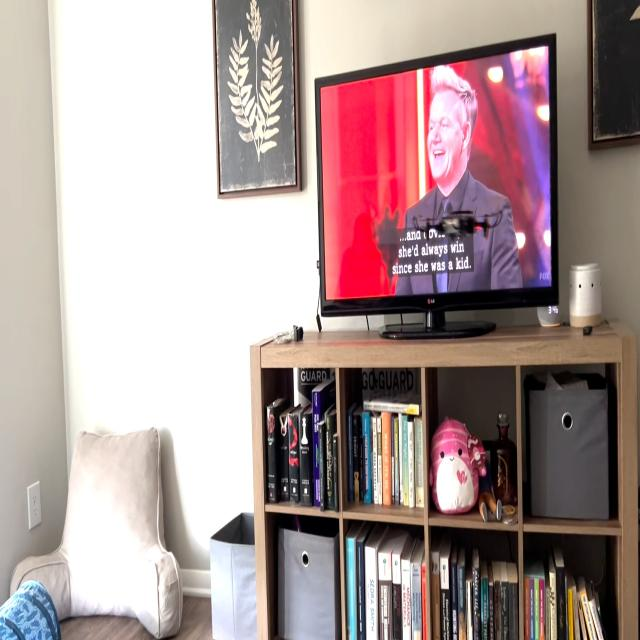drone: (408, 195, 508, 258)
